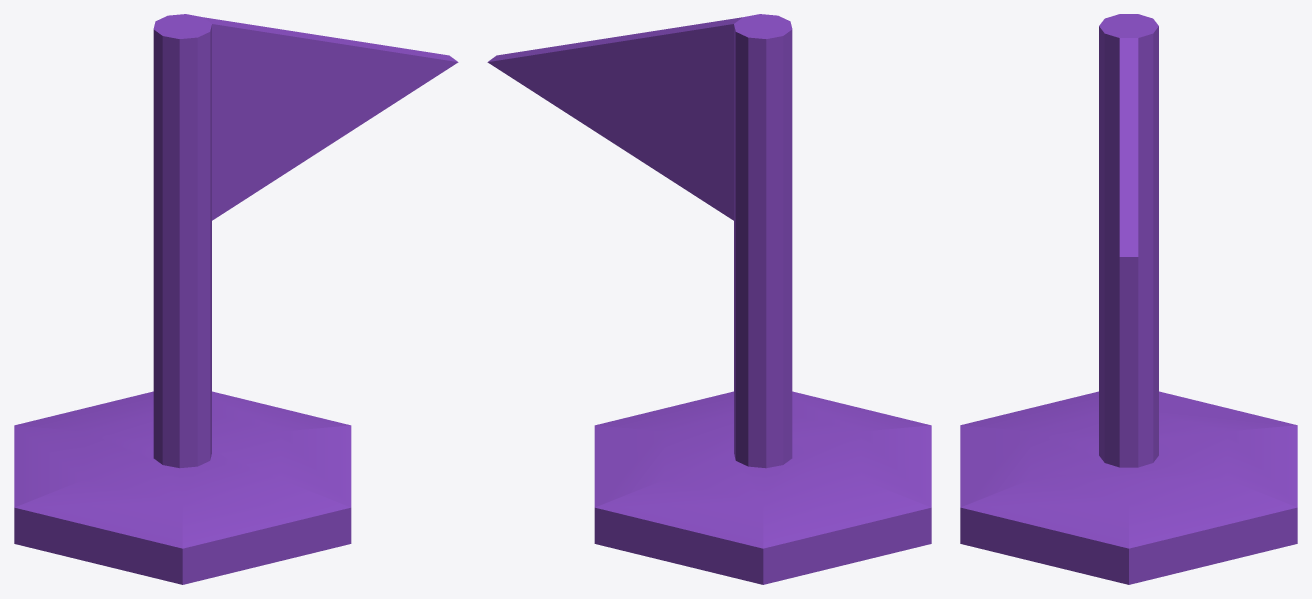
File: Boardgame_Token_Flag_Purple_01.fbx
3 renders of one model, left to right at view 1: azimuth 30°, elevation 25°; view 2: azimuth 150°, elevation 25°; view 3: azimuth 270°, elevation 25°, orthographic.
Parts seen in each view (by area): view 1: Boardgame_Token_Flag_Purple_01; view 2: Boardgame_Token_Flag_Purple_01; view 3: Boardgame_Token_Flag_Purple_01.
Boxes of the visible parts, x1,y1,x2,y2 form: Boardgame_Token_Flag_Purple_01: [14, 14, 458, 584]; Boardgame_Token_Flag_Purple_01: [487, 14, 931, 584]; Boardgame_Token_Flag_Purple_01: [960, 14, 1297, 584].
Bounding box in the file's own units: 1249 × 1293 × 829.
